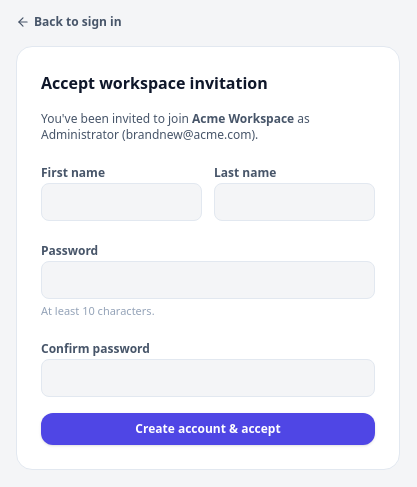
Test: AcceptInvitationPage › shows a password-setup form for a new-user invitation and accepts it
Expected: the text "Acme Workspace" is shown, [192,110,294,127]
In the field labelled "First name": (122, 202) [41,183,202,221], type "Brand"
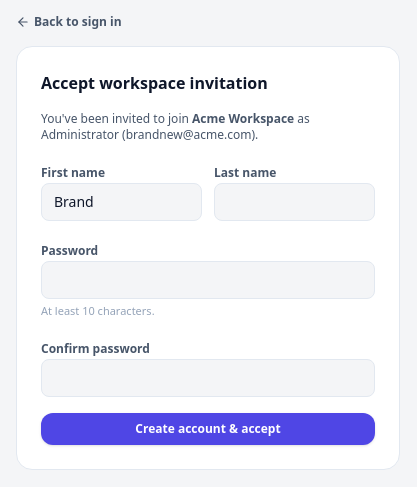
In the field labelled "Last name": (294, 202) [214,183,375,221], type "New"
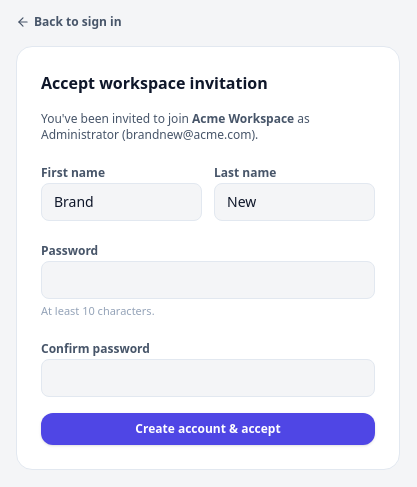
In the password field labelled "Password At least 10 characters.": (208, 280) [41,261,375,299], type "NewUserPassword123"
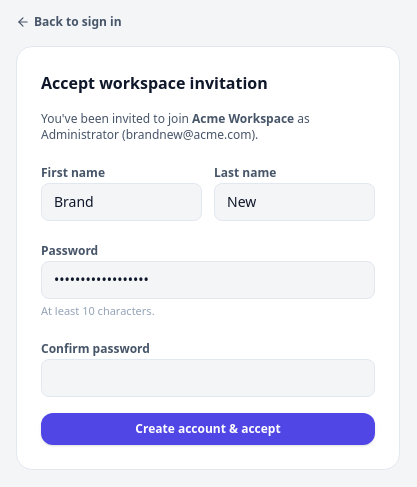
In the password field labelled "Confirm password": (208, 378) [41,359,375,397], type "NewUserPassword123"
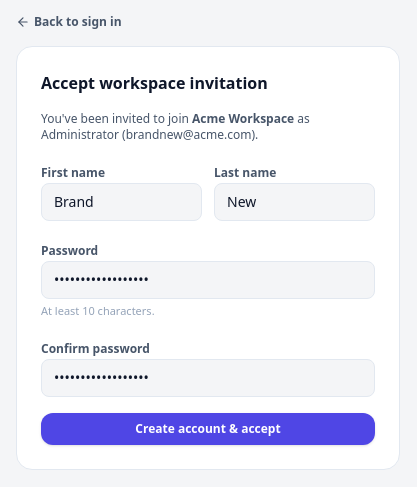
Click the button "Create account & accept": (208, 429) [41,413,375,445]
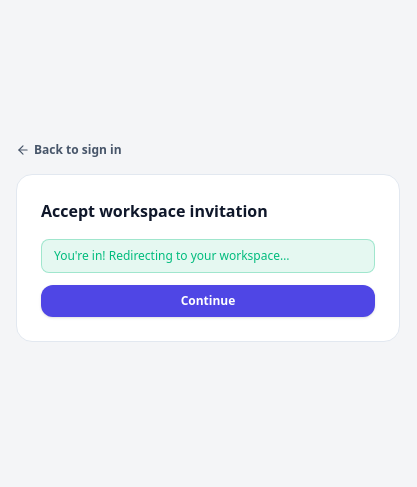
Now the text "You're in! Redirecting to your workspace…" is shown, box [41,239,375,273]
